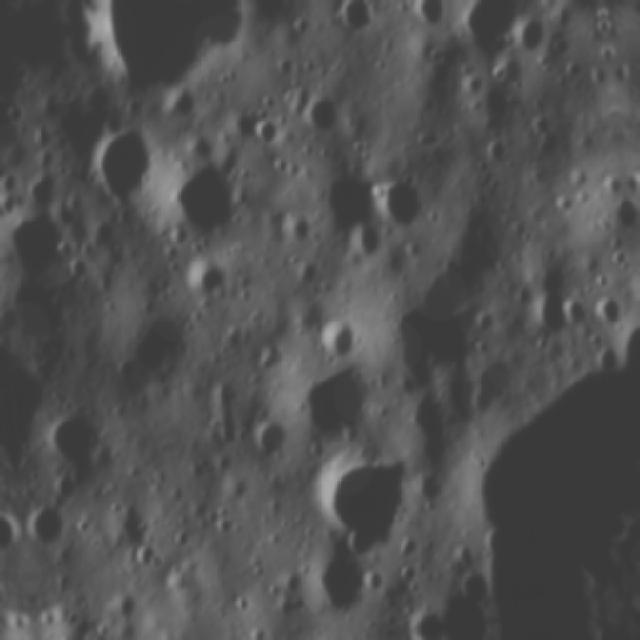crater: (315, 450, 433, 556), (103, 307, 199, 401), (290, 361, 393, 448), (163, 154, 254, 243), (303, 540, 394, 628), (83, 124, 165, 218), (0, 195, 72, 284), (457, 0, 535, 68), (37, 407, 103, 478), (464, 352, 528, 423), (370, 175, 436, 236), (327, 224, 387, 279), (183, 252, 239, 310), (524, 286, 571, 351), (313, 312, 369, 363), (295, 92, 348, 142), (24, 500, 70, 554), (448, 558, 497, 608), (511, 13, 555, 65), (322, 0, 382, 38), (252, 419, 296, 467), (585, 292, 623, 340), (163, 82, 202, 124), (245, 112, 283, 151), (410, 0, 450, 37), (129, 544, 171, 576), (484, 136, 513, 169), (408, 608, 450, 630), (73, 624, 118, 640)
